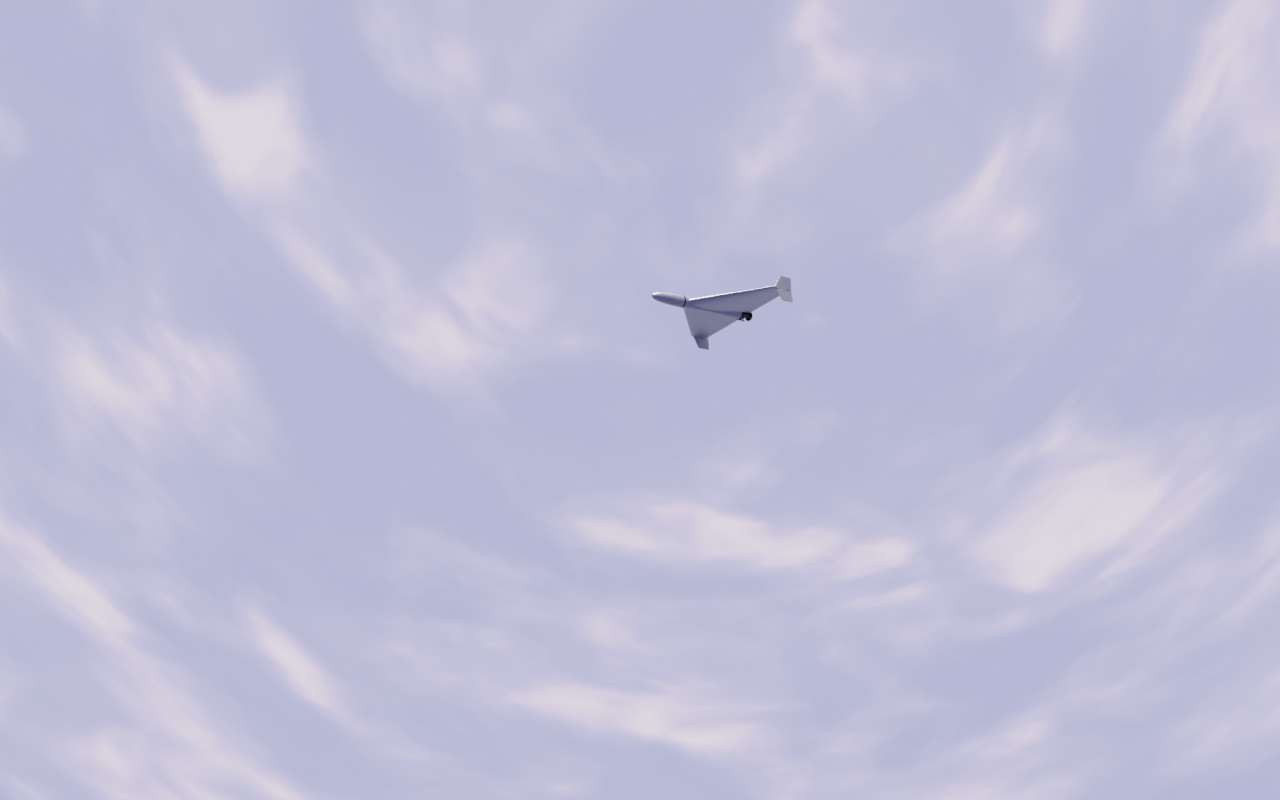shahed: (652, 276, 795, 352)
